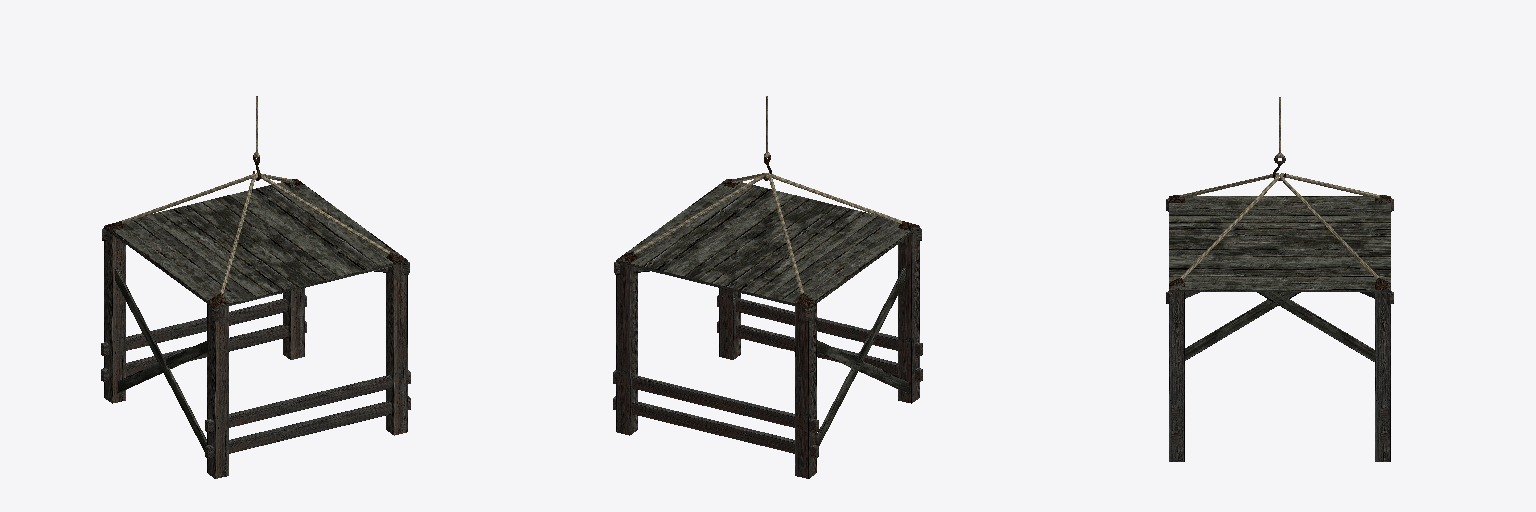
3 renders of one model, left to right at view 1: azimuth 30°, elevation 25°; view 2: azimuth 150°, elevation 25°; view 3: azimuth 270°, elevation 25°, orthographic.
Parts seen in each view (by area): view 1: Cube; view 2: Cube; view 3: Cube.
Boxes of the visible parts, <box> form: Cube: <box>101,96,410,478</box>; Cube: <box>613,96,922,478</box>; Cube: <box>1166,97,1393,461</box>.
Bounding box in the file's own units: 7.4 × 11.07 × 7.21.
Materials: 1 (1 with a texture image).